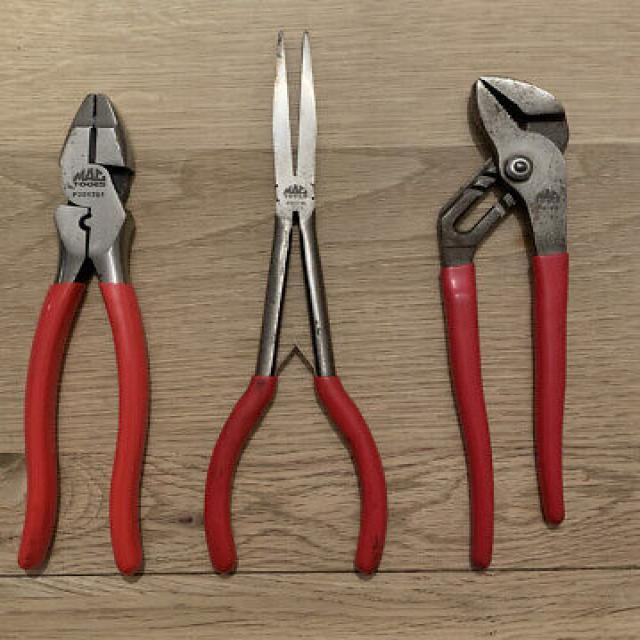pliers: (195, 21, 396, 586), (419, 72, 582, 578), (5, 84, 157, 586)
